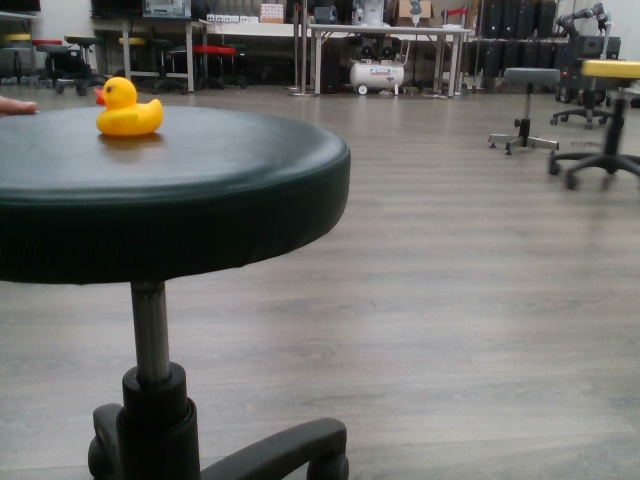duck: (91, 74, 165, 138)
